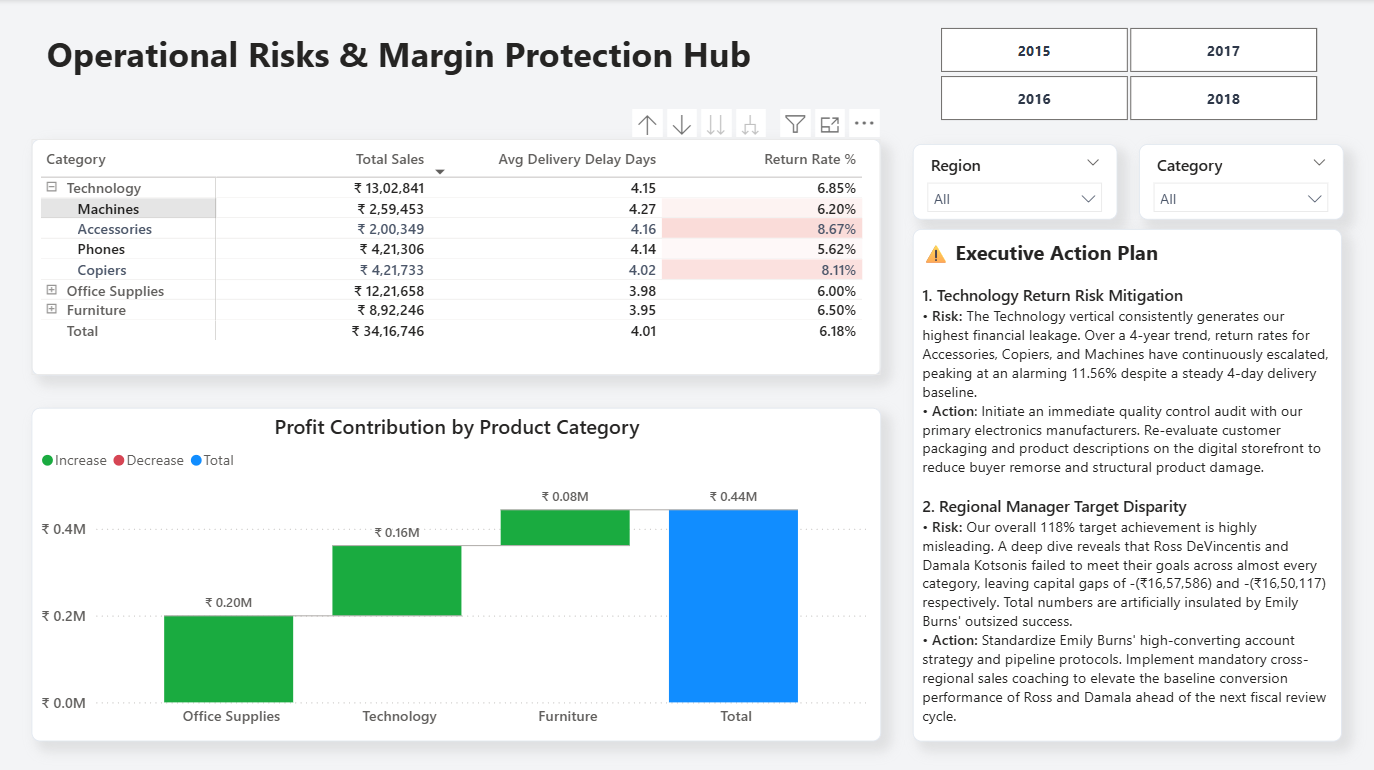

The dashboard page shown, as its layout file describes it:
{"tool":"powerbi","page":{"name":"Operational Risks & Margin Protection Hub","canvas":[1280,720],"ordinal":2},"visuals":[{"type":"slicer","fields":{"Values":["Calendar.Year"]},"box":[850,20,400,100],"z":0},{"type":"slicer","fields":{"Values":["People.Region"]},"box":[850,135,190,70],"z":1},{"type":"slicer","fields":{"Values":["Target.Category"]},"box":[1060,135,190,70],"z":2},{"type":"pivotTable","fields":{"Values":["All_Measures.Total Sales","All_Measures.Avg Delivery Delay Days","All_Measures.Return Rate %"],"Rows":["Target.Category","Fact_Sales.Sub-Category"]},"box":[30,130,790,220],"z":3},{"type":"waterfallChart","title":"Profit Contribution by Product Category","fields":{"Category":["Target.Category"],"Y":["All_Measures.Total Profit"]},"box":[30,380,790,310],"z":4},{"type":"textbox","box":[850.5,213.5,399.3,476.5],"z":5},{"type":"textbox","box":[40,25,750,60],"z":6}]}

Visuals, with their boxes in screenshot pixels (x1, y1, x2, y2), scaled from the page's 1280x720 canvas onto the 1374x770 screenshot:
slicer - Calendar.Year: bbox=(912, 21, 1342, 128)
slicer - People.Region: bbox=(912, 144, 1116, 219)
slicer - Target.Category: bbox=(1138, 144, 1342, 219)
pivotTable - All_Measures.Total Sales x All_Measures.Avg Delivery Delay Days: bbox=(32, 139, 880, 374)
"Profit Contribution by Product Category" waterfallChart: bbox=(32, 406, 880, 738)
textbox: bbox=(913, 228, 1342, 738)
textbox: bbox=(43, 27, 848, 91)
